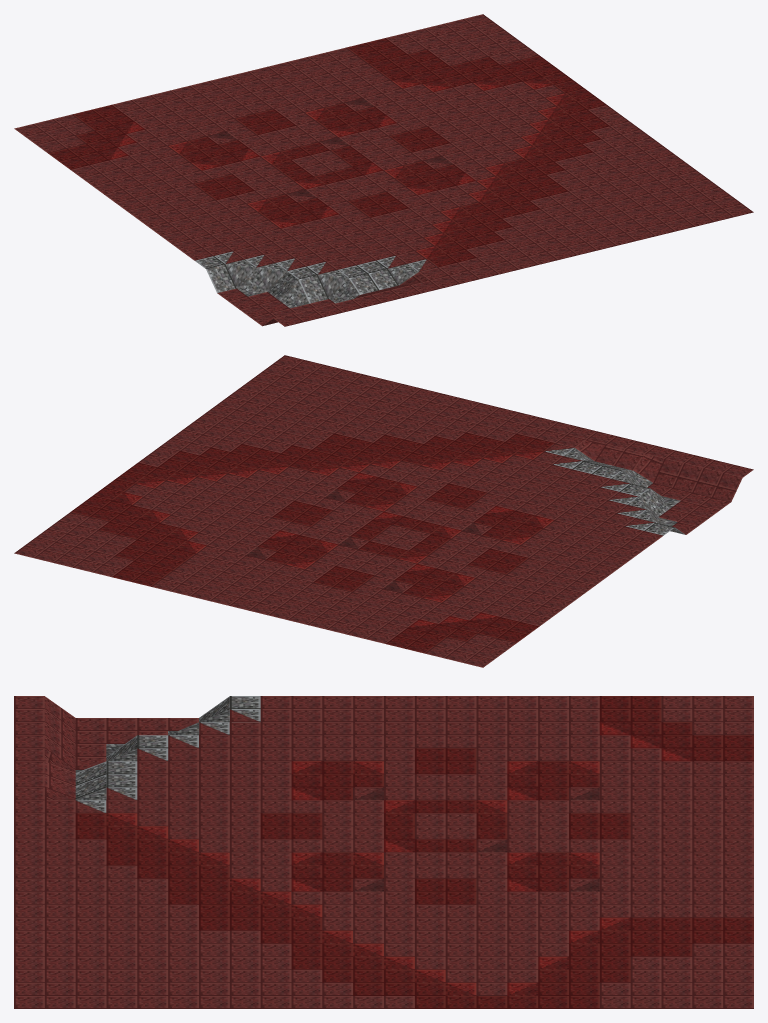
The model's file is FloorCorner_4.obj.
3 renders of one model, top to bottom at view 1: azimuth 30°, elevation 25°; view 2: azimuth 150°, elevation 25°; view 3: azimuth 270°, elevation 25°, orthographic. The views are drawn at different scales.
Visible parts, largest first — view 1: FloorCorner_4; view 2: FloorCorner_4; view 3: FloorCorner_4.
Part boxes in pixels (x1,y1,x2,y2): FloorCorner_4: (14, 14, 753, 326); FloorCorner_4: (14, 355, 753, 667); FloorCorner_4: (14, 696, 753, 1008).
Bounding box in the file's own units: 24 × 0.7794 × 24.
